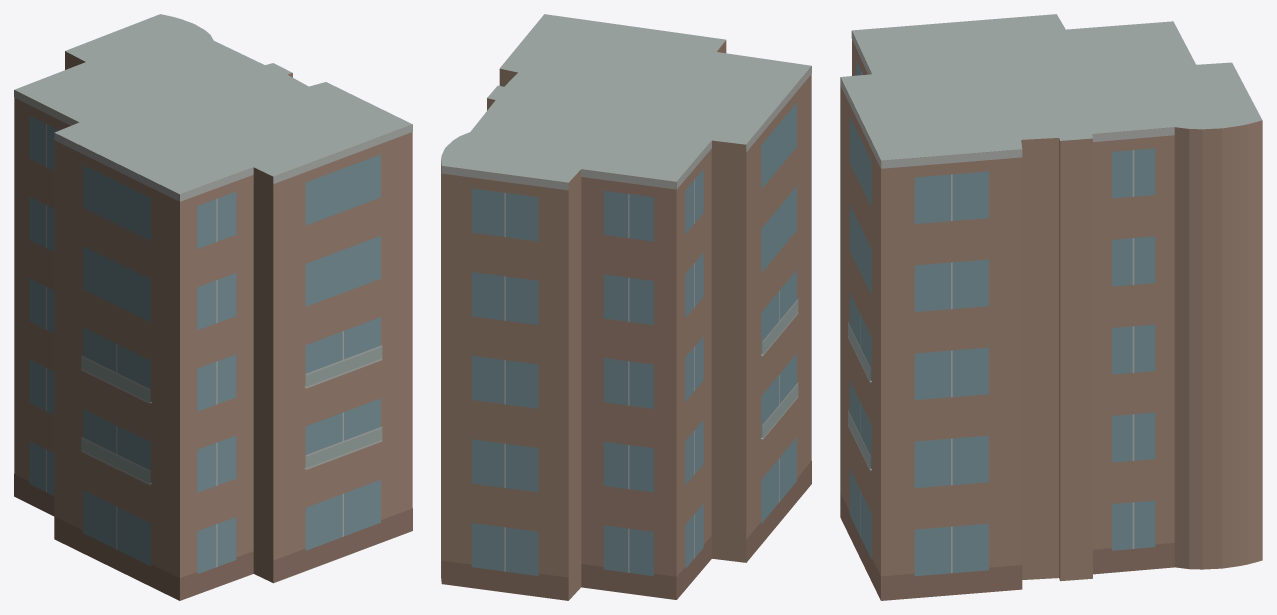
The model's file is survey-upis-32596976.glb.
3 renders of one model, left to right at view 1: azimuth 30°, elevation 25°; view 2: azimuth 150°, elevation 25°; view 3: azimuth 270°, elevation 25°, orthographic. The views are drawn at different scales.
Parts seen in each view (by area): view 1: survey-upis-32596976.tmp; view 2: survey-upis-32596976.tmp; view 3: survey-upis-32596976.tmp.
Part boxes in pixels (box(x1,y1,x2,y2)): survey-upis-32596976.tmp: box(14, 14, 412, 600); survey-upis-32596976.tmp: box(441, 14, 811, 600); survey-upis-32596976.tmp: box(840, 14, 1262, 600).
Bounding box in the file's own units: 9.36 × 13.1 × 11.39.
